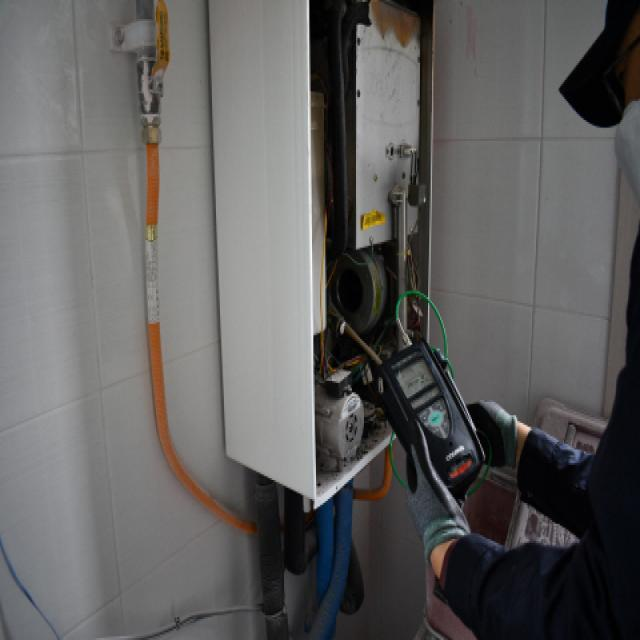Boiler: (195, 0, 464, 512)
